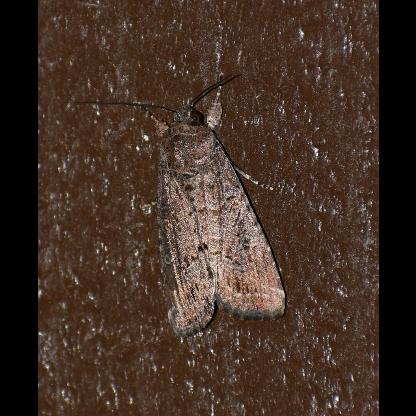Fall Armyworm Moth: (70, 67, 290, 341)
